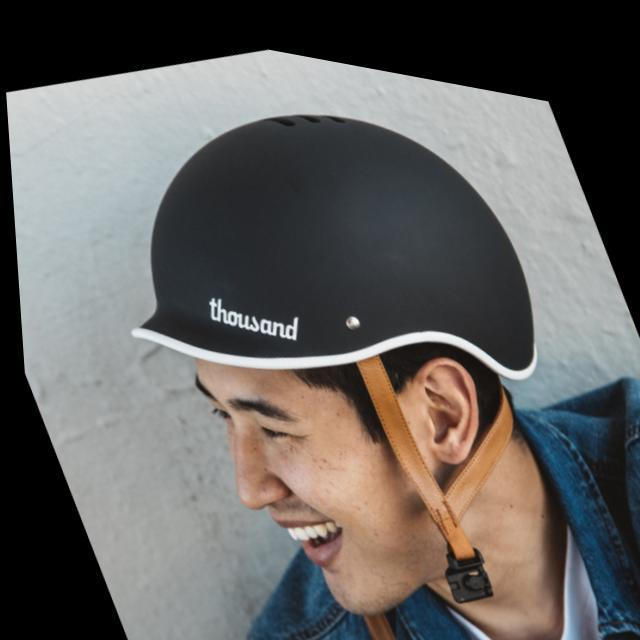Helmet: (119, 100, 550, 618)
